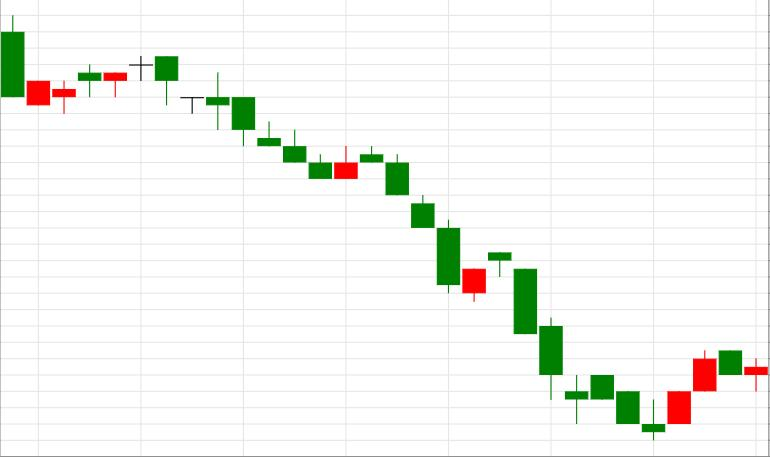morning_star_rise: (489, 253, 691, 439)
